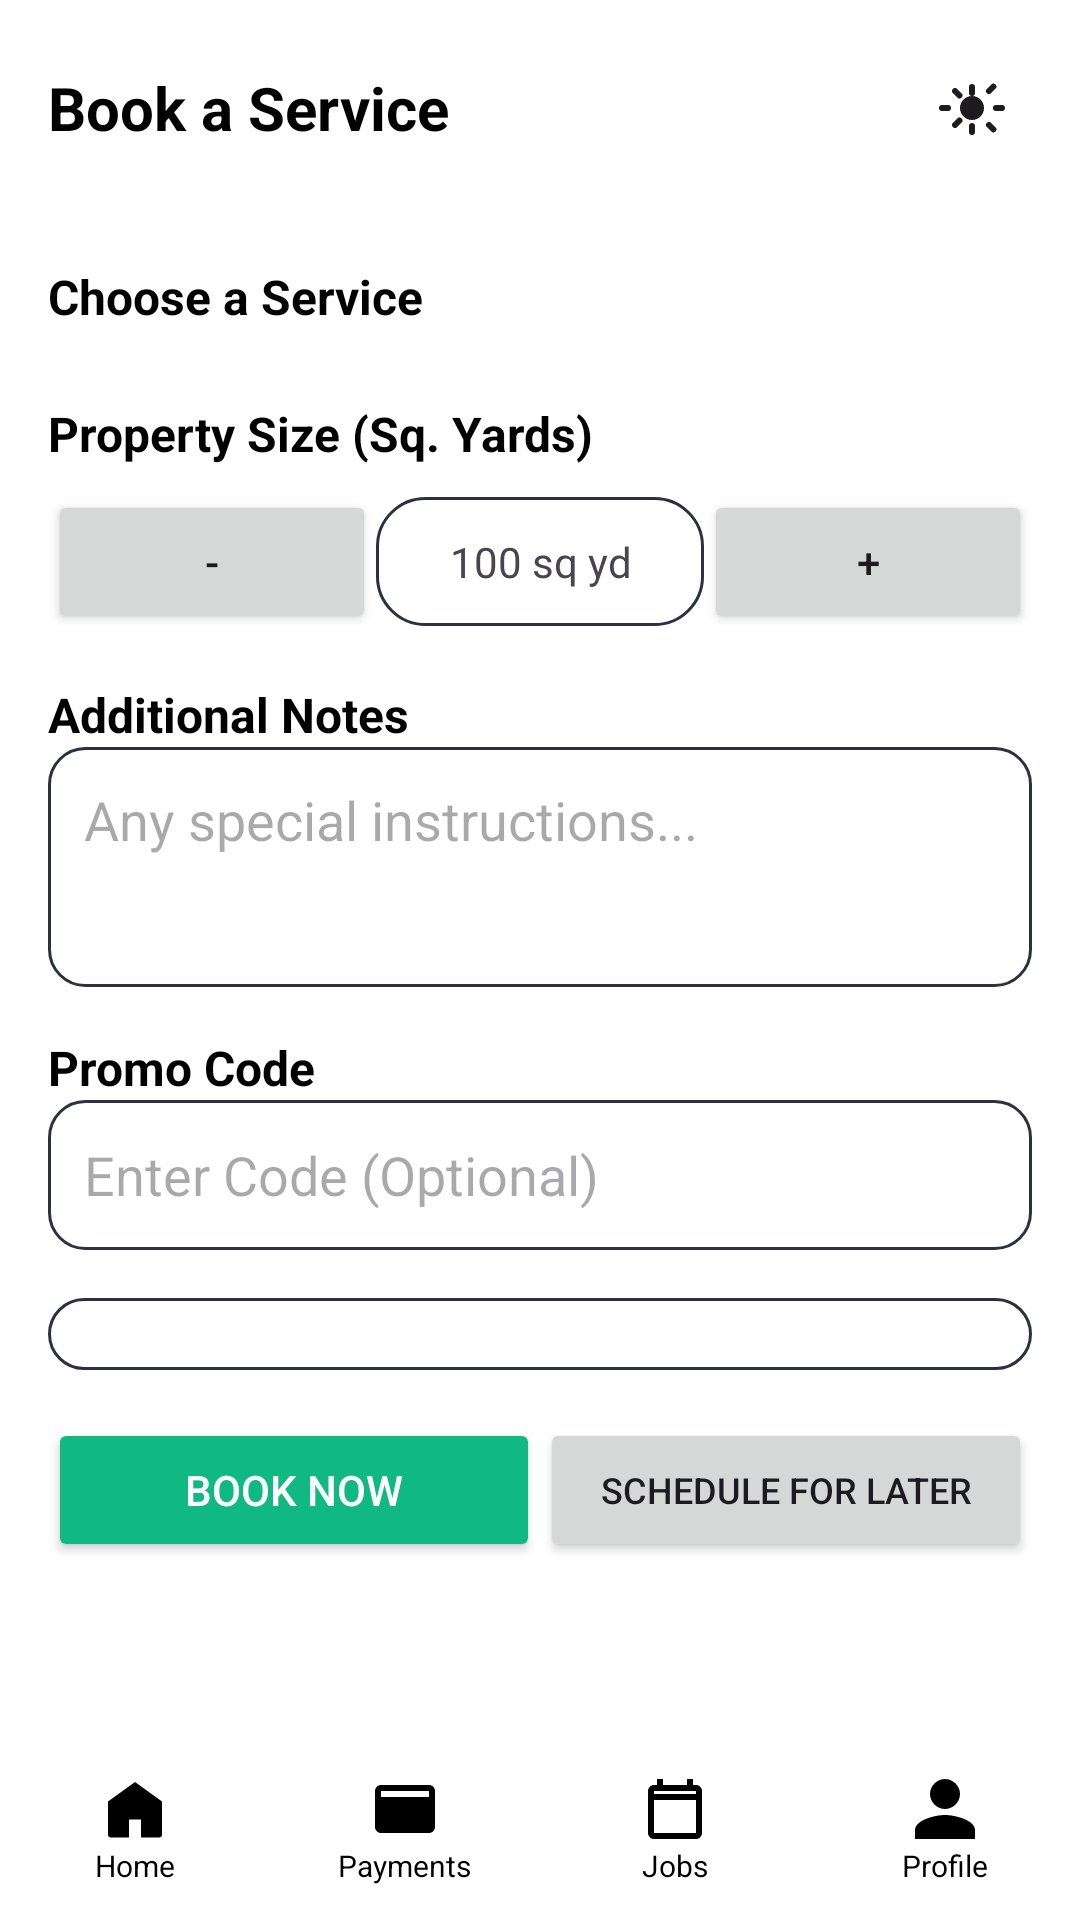

Locate icon controls on the screen. Image size 1080×1920, boxes as BBox(x1, y1, x2, y2).
calendar: BBox(648, 1779, 702, 1839)
Theme toggle: BBox(939, 83, 1005, 135)
user: BBox(915, 1779, 975, 1839)
